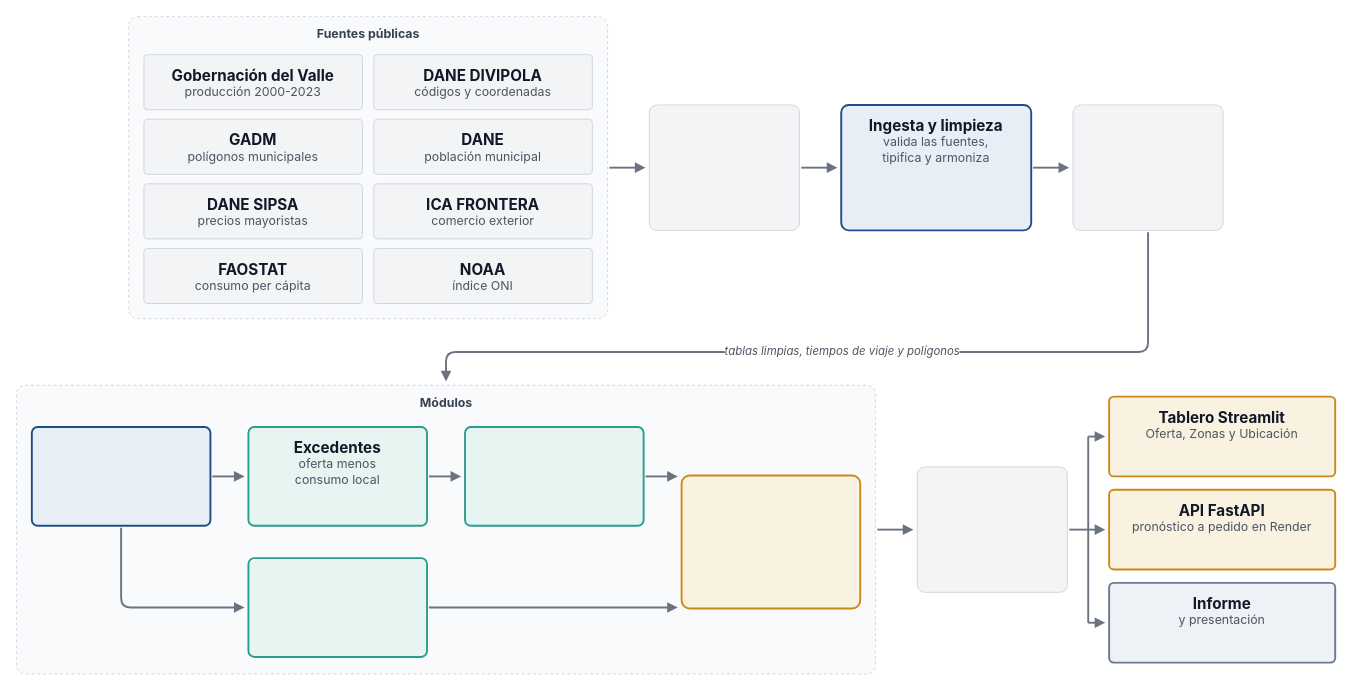
The diagram is 1353 pixels wide and 691 high, and some of its shapes have lost their labels. Here are the shapes that lost their labels. From the top down, the centre of each, then its label:
At (x=723, y=167): "raw data/raw fuentes originales, sin cambios".
At (x=1147, y=167): "trusted data/clean 12 tablas limpias y validadas".
At (x=120, y=476): "Pronóstico LightGBM: oferta 2024-2028 en bajo, base y alto".
At (x=554, y=476): "Escenarios 27 por año: oferta, consumo y mercado".
At (x=770, y=541): "Optimización OR-Tools: central y 5 satélites, frontera de Pareto y estabilidad".
At (x=991, y=529): "refined data/results 25 tablas en Parquet y catálogo".
At (x=337, y=607): "Zonas de acopio 5 zonas contiguas por ubicación y valor de la oferta".
